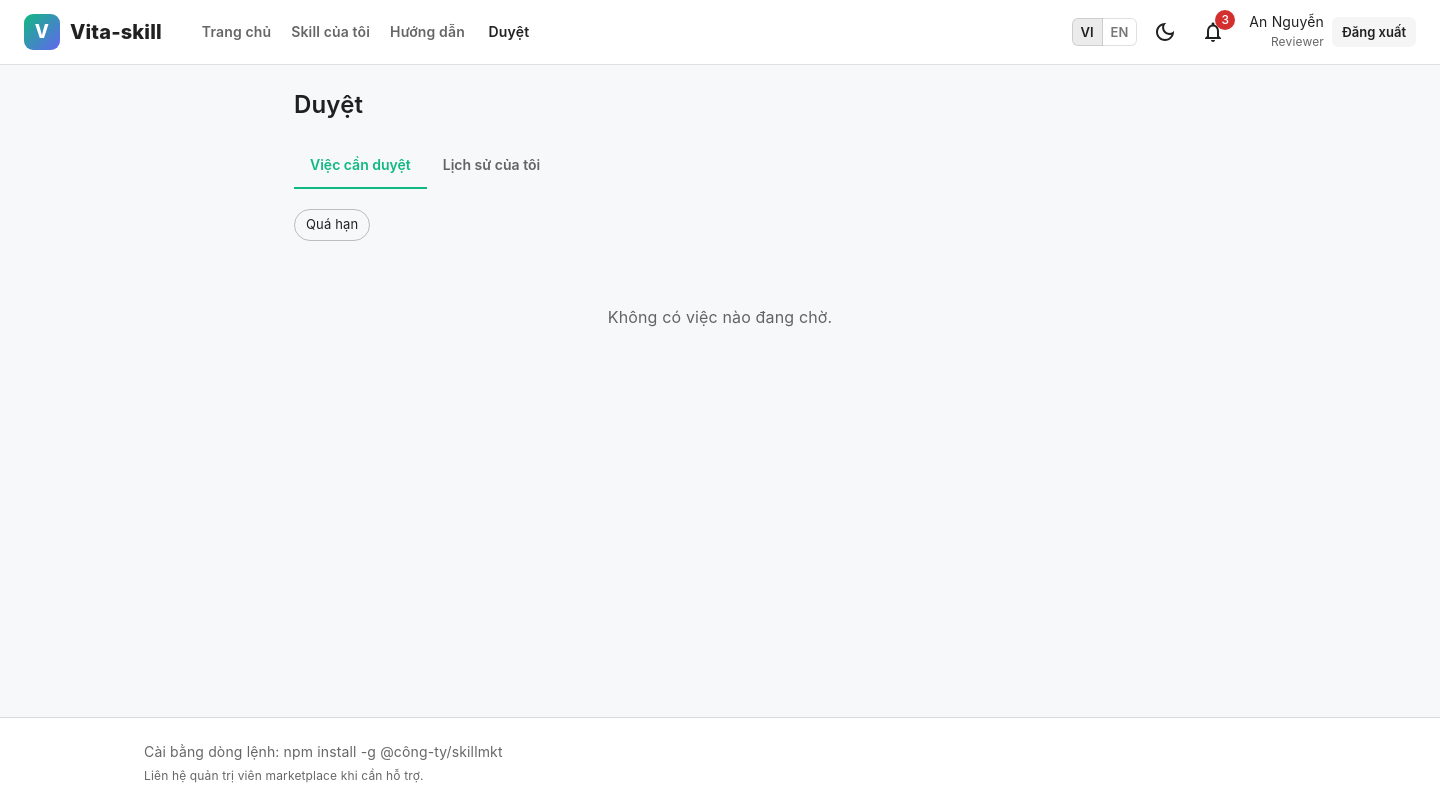
Test: ReviewQueuePage › Reviewer xem được lịch sử quyết định
Click the tab "Lịch sử của tôi" at [492, 165], box [427,141,556,189]
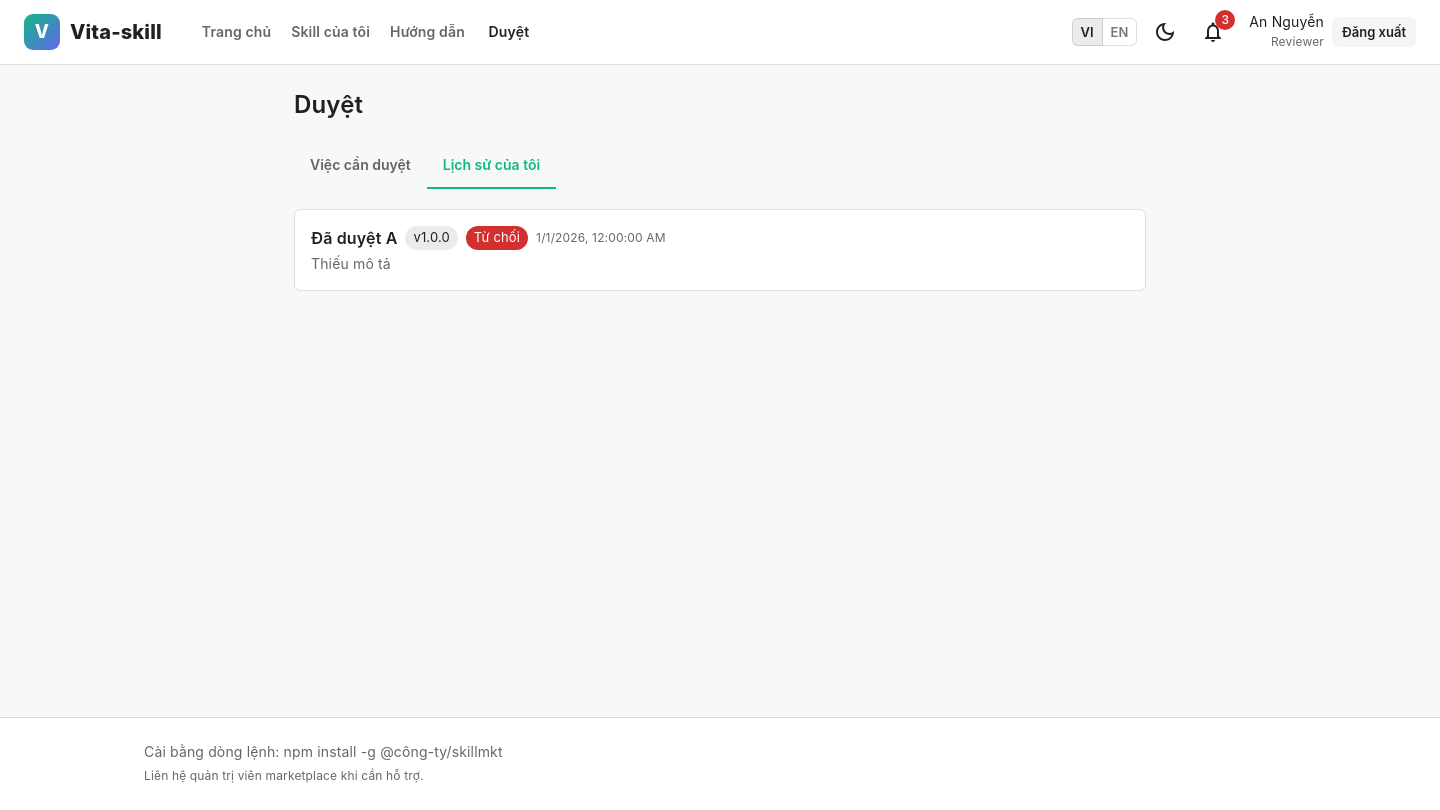
Expected: the text "Đã duyệt A" is shown, [311,226,397,250]
Expected: the text "Thiếu mô tả" is shown, [311,255,391,272]
